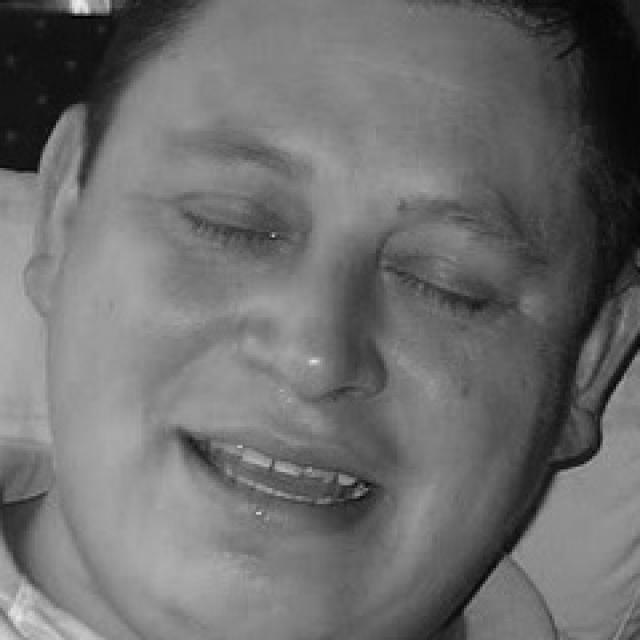real: (83, 12, 541, 630), (152, 146, 526, 323)
